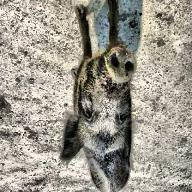boar: (51, 0, 165, 192)
